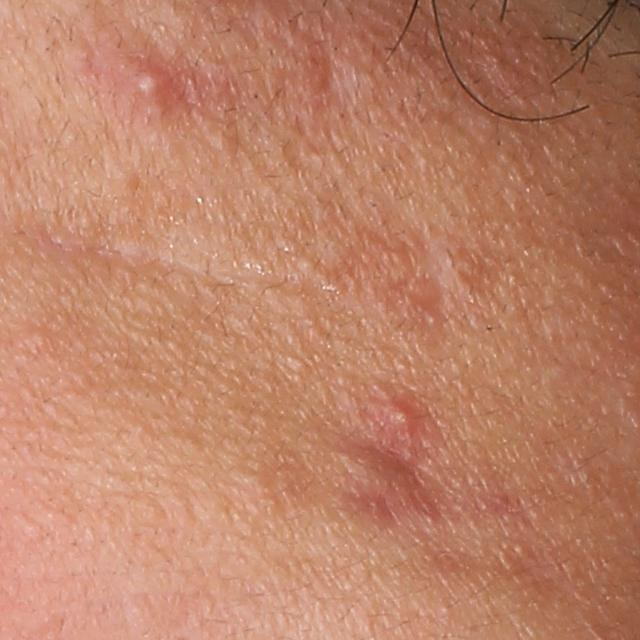comedo: (206, 129, 236, 153)
papule: (373, 396, 435, 446)
pustule: (126, 61, 163, 100)
